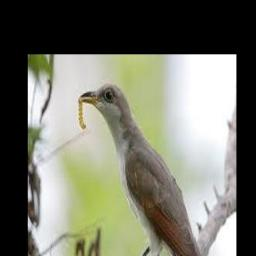Cuckoo: (80, 84, 215, 256)
